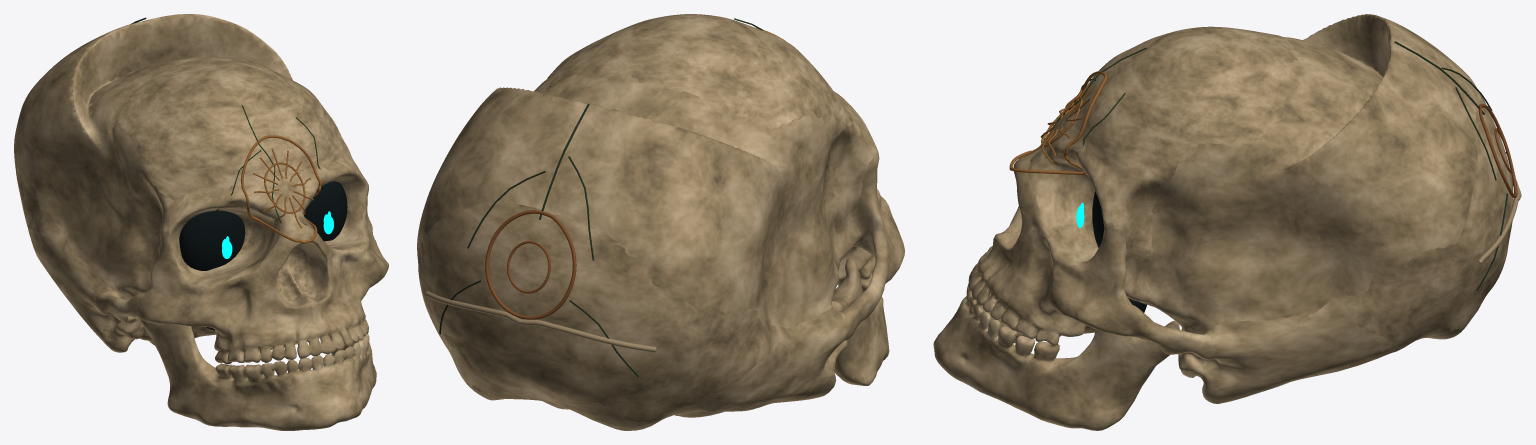
Rendered from titan-skull-boss-v027.glb.
3 views of the same model, side by side, from view 1: azimuth 30°, elevation 25°; view 2: azimuth 150°, elevation 25°; view 3: azimuth 270°, elevation 25° (orthographic). The views are drawn at different scales.
Parts seen in each view (by area): view 1: TitanSkull_AnatomyShell_01, TitanSkull_AnatomyShell_02, TitanSkull_AnatomyShell_06, TitanSkull_AnatomyShell_03, TitanSkull_AnatomyShell_05, TitanSkull_LeftDeepSocketBackplate, TitanSkull_RightDeepSocketBackplate, TitanSkull_AnatomyShell_04, TitanSkull_AnatomyShell_11, TitanSkull_CrownCompassSeal; view 2: TitanSkull_AnatomyShell_02, TitanSkull_AnatomyShell_04, TitanSkull_AnatomyShell_06, TitanSkull_AnatomyShell_05, TitanSkull_AnatomyShell_01, TitanSkull_AnatomyShell_03, TitanSkull_RaisedNuchalRidge, TitanSkull_OccipitalSealOuter; view 3: TitanSkull_AnatomyShell_02, TitanSkull_AnatomyShell_01, TitanSkull_AnatomyShell_06, TitanSkull_AnatomyShell_04, TitanSkull_AnatomyShell_03, TitanSkull_AnatomyShell_05, TitanSkull_CrownCompassSeal, TitanSkull_OccipitalSealOuter.
Part boxes in pixels (box(x1,y1,x2,y2)): TitanSkull_AnatomyShell_01: box(92, 184, 388, 430); TitanSkull_AnatomyShell_02: box(14, 14, 292, 298); TitanSkull_AnatomyShell_06: box(117, 58, 349, 200); TitanSkull_AnatomyShell_03: box(148, 147, 368, 296); TitanSkull_AnatomyShell_05: box(27, 224, 280, 352); TitanSkull_LeftDeepSocketBackplate: box(179, 210, 245, 270); TitanSkull_RightDeepSocketBackplate: box(303, 181, 347, 241); TitanSkull_AnatomyShell_04: box(14, 148, 74, 255); TitanSkull_AnatomyShell_11: box(277, 247, 316, 301); TitanSkull_CrownCompassSeal: box(241, 135, 321, 243); TitanSkull_AnatomyShell_02: box(417, 64, 840, 329); TitanSkull_AnatomyShell_04: box(417, 199, 794, 422); TitanSkull_AnatomyShell_06: box(551, 14, 853, 140); TitanSkull_AnatomyShell_05: box(465, 307, 847, 430); TitanSkull_AnatomyShell_01: box(832, 147, 904, 385); TitanSkull_AnatomyShell_03: box(829, 91, 877, 262); TitanSkull_RaisedNuchalRidge: box(425, 291, 656, 352); TitanSkull_OccipitalSealOuter: box(485, 210, 576, 319); TitanSkull_AnatomyShell_02: box(1146, 14, 1477, 330); TitanSkull_AnatomyShell_01: box(933, 147, 1216, 430); TitanSkull_AnatomyShell_06: box(1072, 26, 1297, 188); TitanSkull_AnatomyShell_04: box(1308, 91, 1513, 349); TitanSkull_AnatomyShell_03: box(1028, 110, 1162, 310); TitanSkull_AnatomyShell_05: box(1181, 309, 1478, 403); TitanSkull_CrownCompassSeal: box(1009, 71, 1107, 174); TitanSkull_OccipitalSealOuter: box(1478, 104, 1517, 197).
Size of the model in its own units: 2.62 by 2.84 by 4.46.
8 materials, 1 textured.
